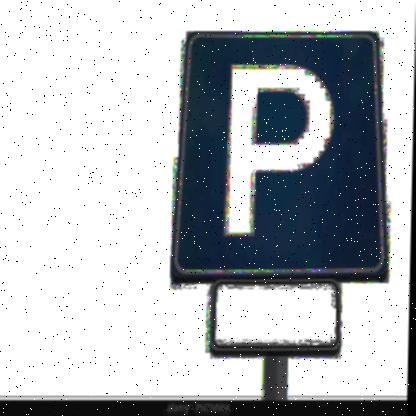Parking: (180, 33, 386, 271)
